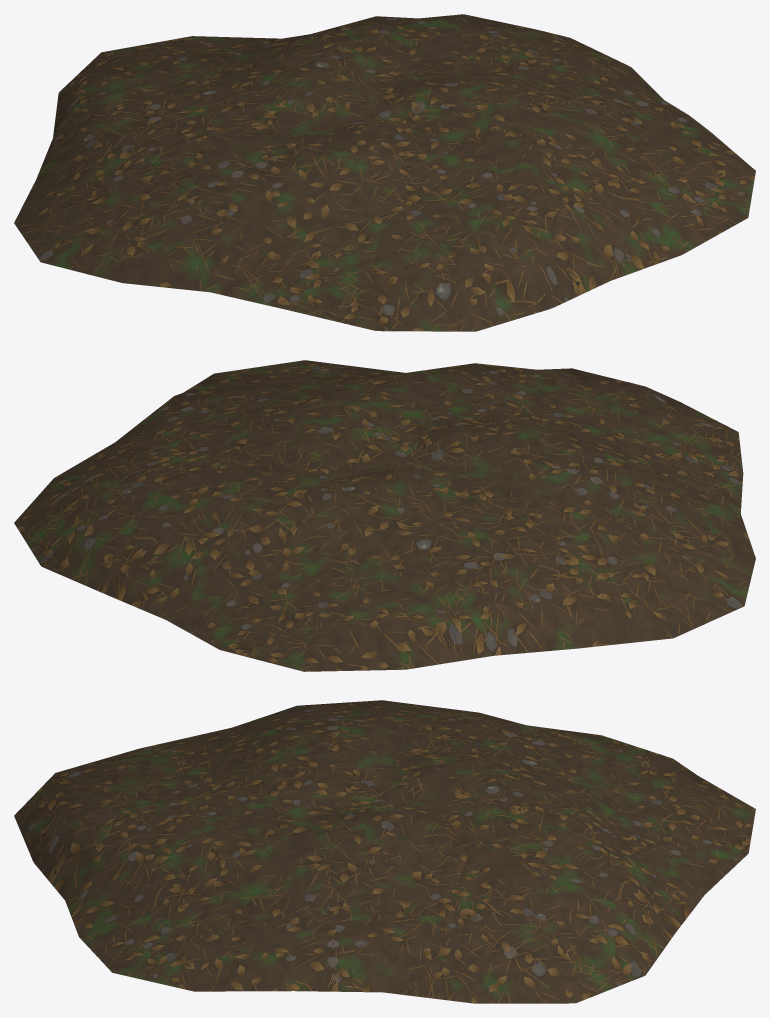
File: Ground_MossyRootCollar.fbx
The picture shows the model from 3 angles, top to bottom: view 1: azimuth 30°, elevation 25°; view 2: azimuth 150°, elevation 25°; view 3: azimuth 270°, elevation 25°; orthographic projection.
Parts seen in each view (by area): view 1: Ground_MossyRootCollar; view 2: Ground_MossyRootCollar; view 3: Ground_MossyRootCollar.
Part boxes in pixels (box(x1,y1,x2,y2)): Ground_MossyRootCollar: box(14, 14, 755, 331); Ground_MossyRootCollar: box(14, 360, 755, 671); Ground_MossyRootCollar: box(14, 700, 755, 1003).
Size of the model in its own units: 7.87 by 0.9598 by 7.99.
Materials: 1 (1 with a texture image).
